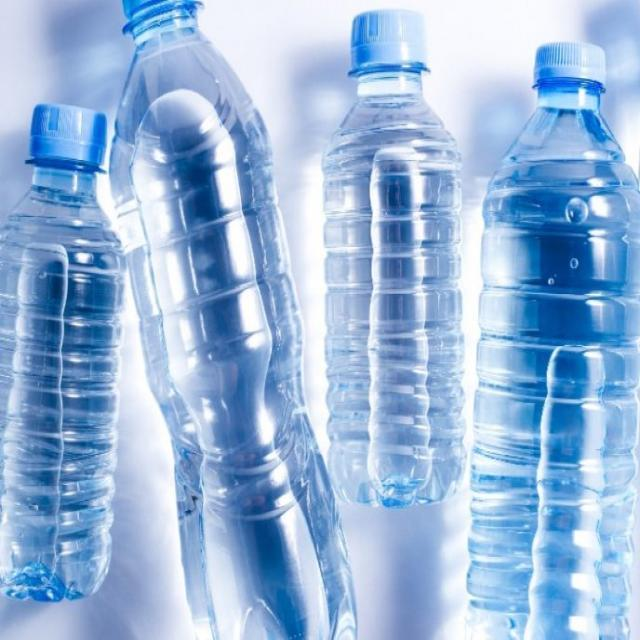plastic_bottle: (108, 0, 359, 640), (466, 40, 640, 639), (324, 7, 467, 509), (2, 101, 127, 604)
